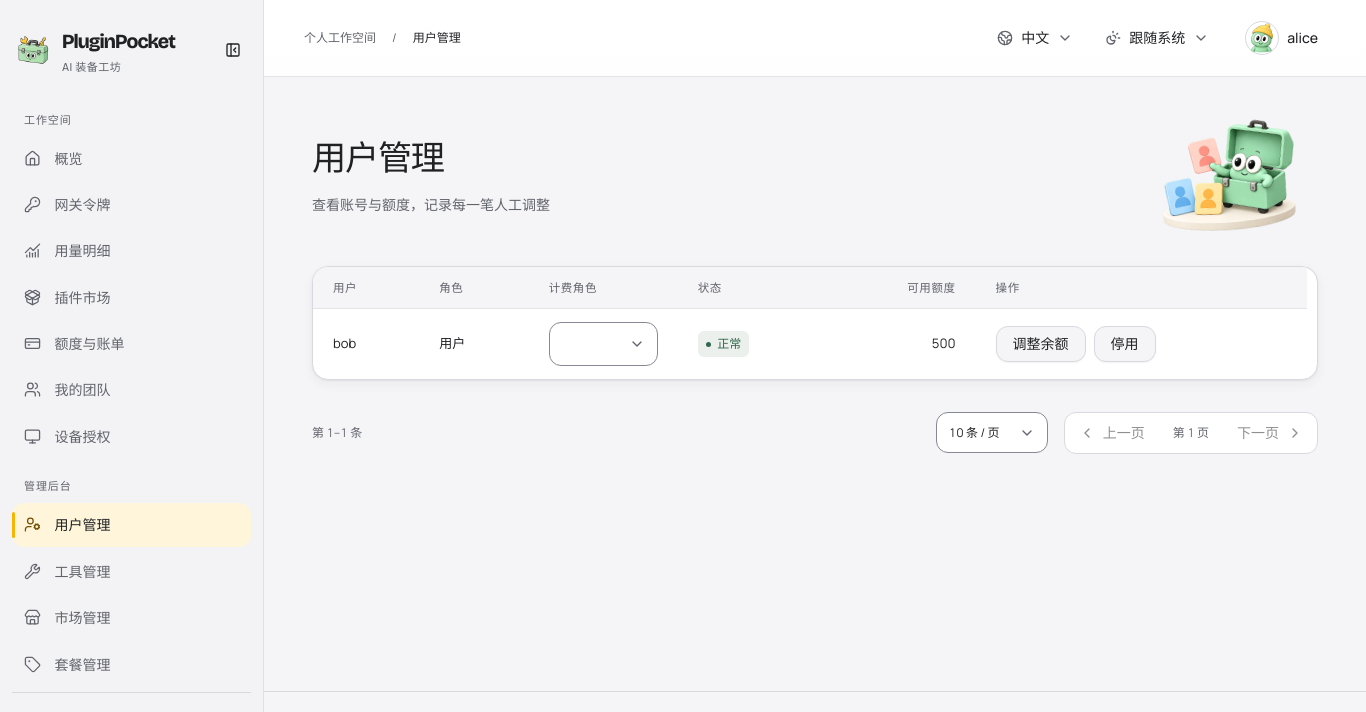
Test: disables a user only after explicit confirmation
Click the button with aria-label "停用 bob" at (1125, 344), box top-left (1094, 326), bottom-right (1156, 362)
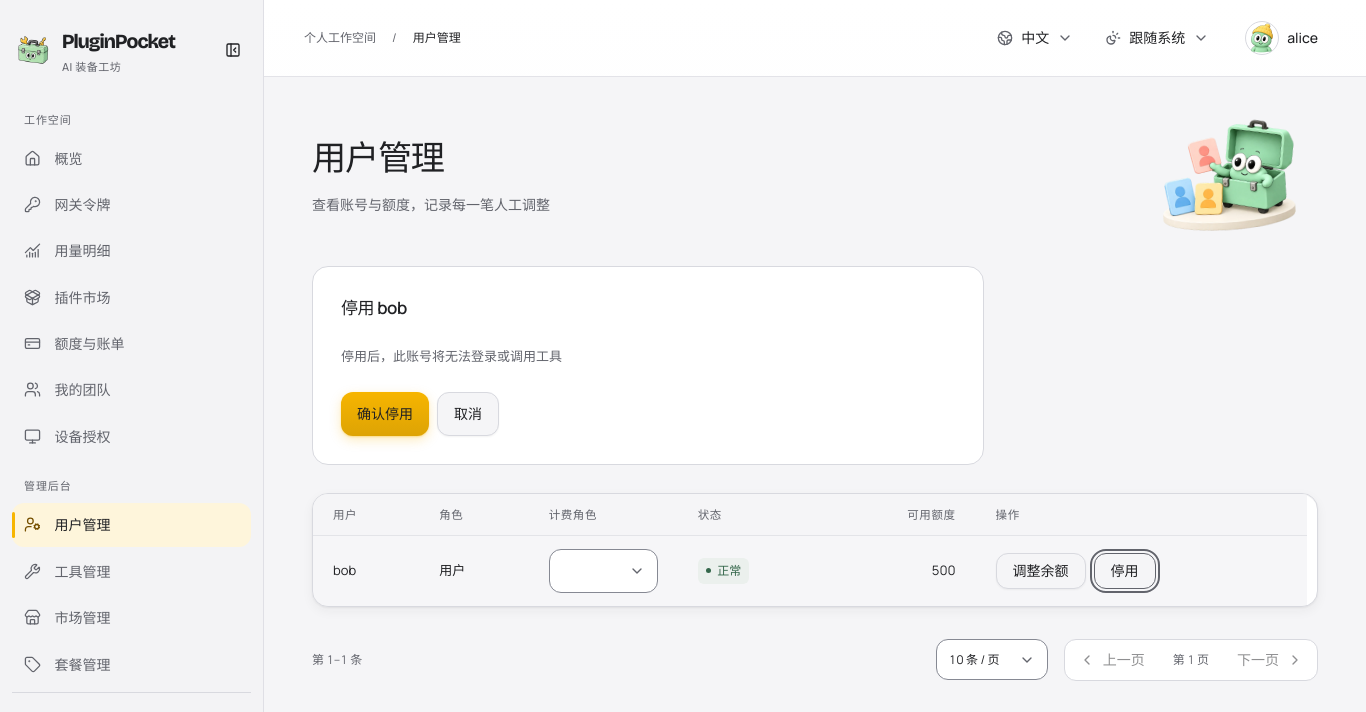
Expected: the button "确认停用" is shown
Click the button "确认停用" at (385, 414), box top-left (341, 392), bottom-right (429, 436)
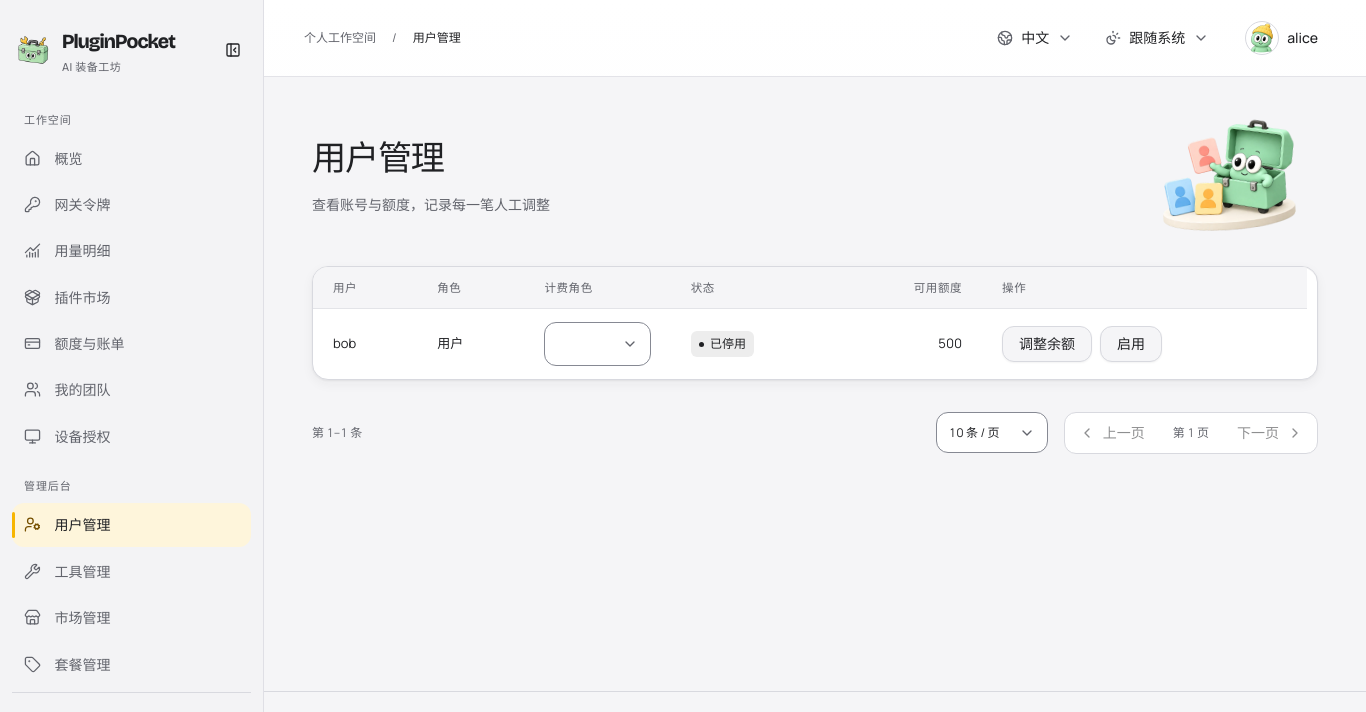
Expected: the text "已停用" is shown, top-left (691, 331), bottom-right (754, 357)
